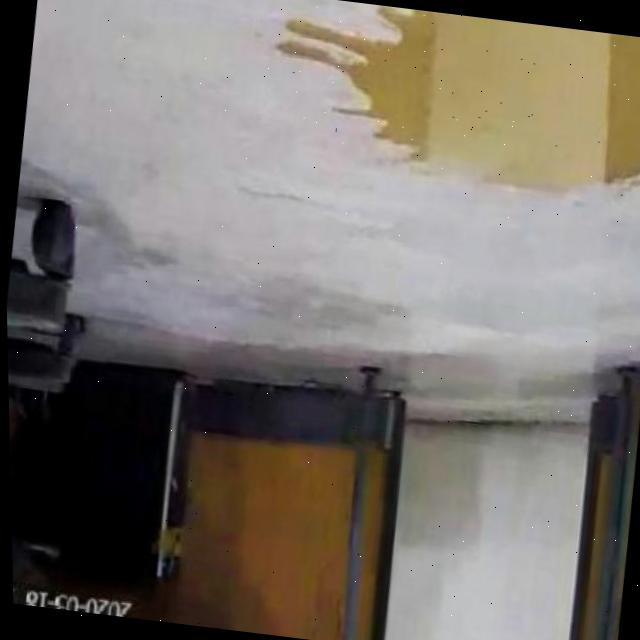spillage: (280, 8, 640, 191)
